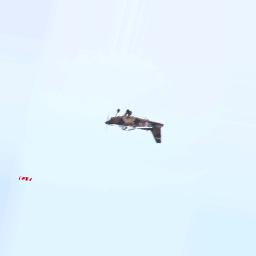Airplane: (105, 107, 164, 145)
